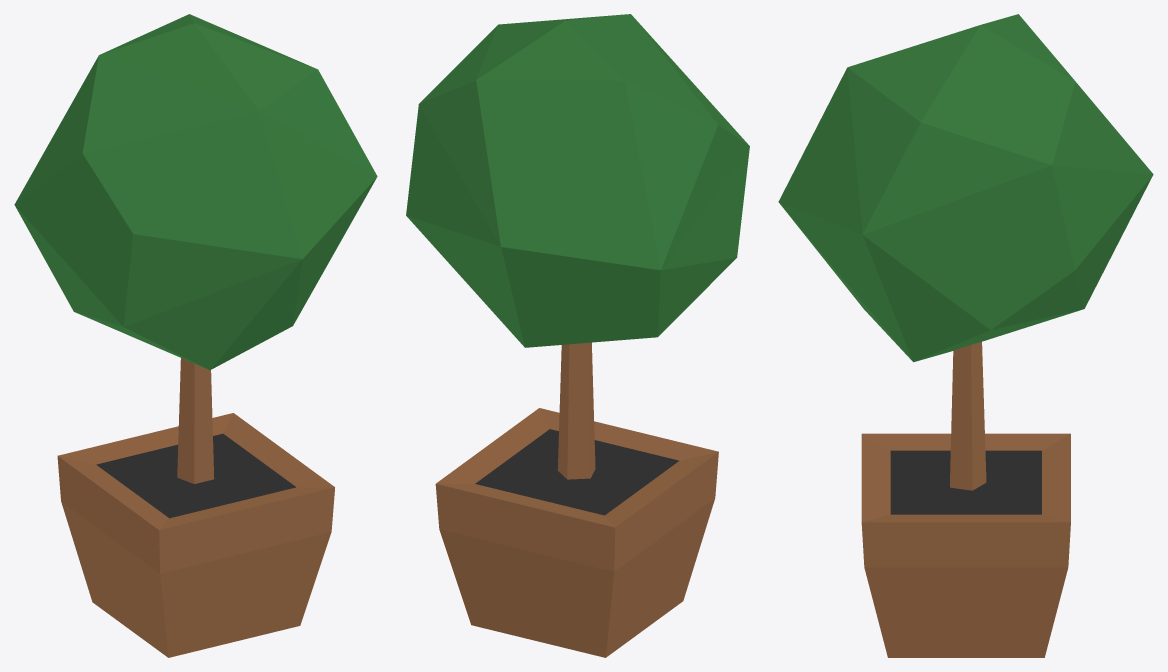
The model's file is tree-pot.glb.
The picture shows the model from 3 angles, left to right: view 1: azimuth 30°, elevation 25°; view 2: azimuth 150°, elevation 25°; view 3: azimuth 270°, elevation 25°; orthographic projection. The views are drawn at different scales.
Visible parts, largest first — view 1: tree-pot; view 2: tree-pot; view 3: tree-pot.
Part boxes in pixels (left/top/right/bottom): tree-pot: left=14, top=14, right=377, bottom=657; tree-pot: left=406, top=14, right=749, bottom=657; tree-pot: left=778, top=14, right=1153, bottom=657.
Bounding box in the file's own units: 0.5975 × 1.27 × 0.7171.
1 material, 1 textured.
